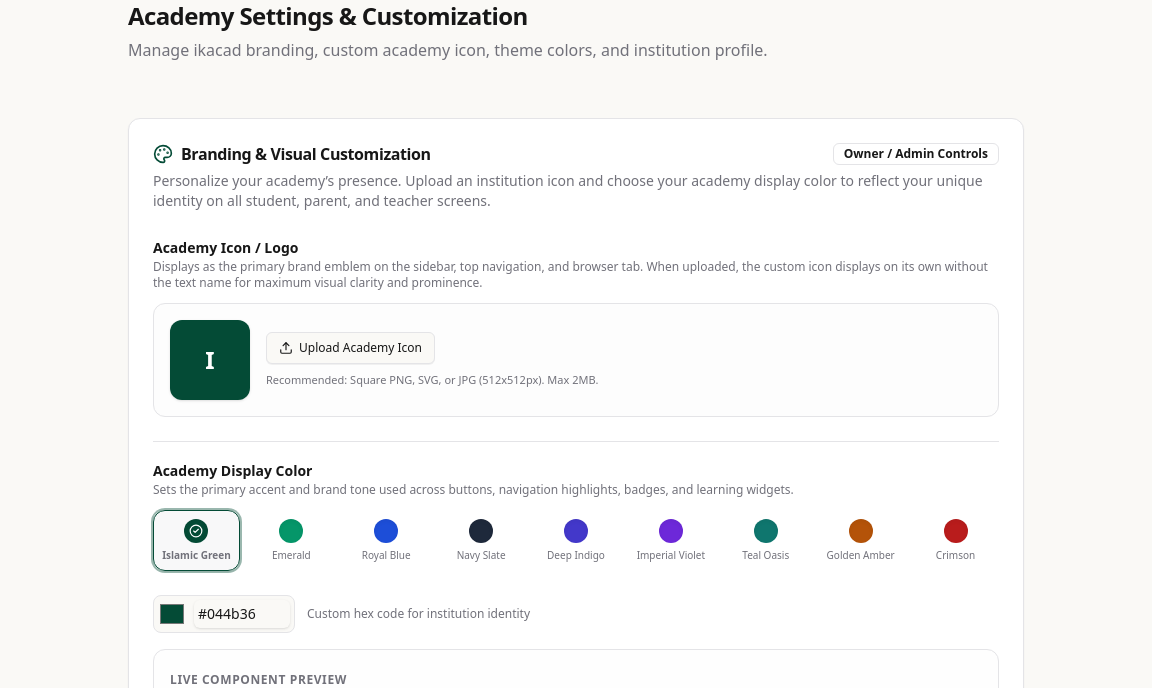
Test case: Academy Branding & Dynamic Tab Wording › SettingsPage Branding & Customization UI › allows changing display color and saving branding
This screenshot has width=1152, height=688.
Click the button titled "Royal Blue". click: [386, 540]
box: 343,510 -> 430,570
(page scrolled)
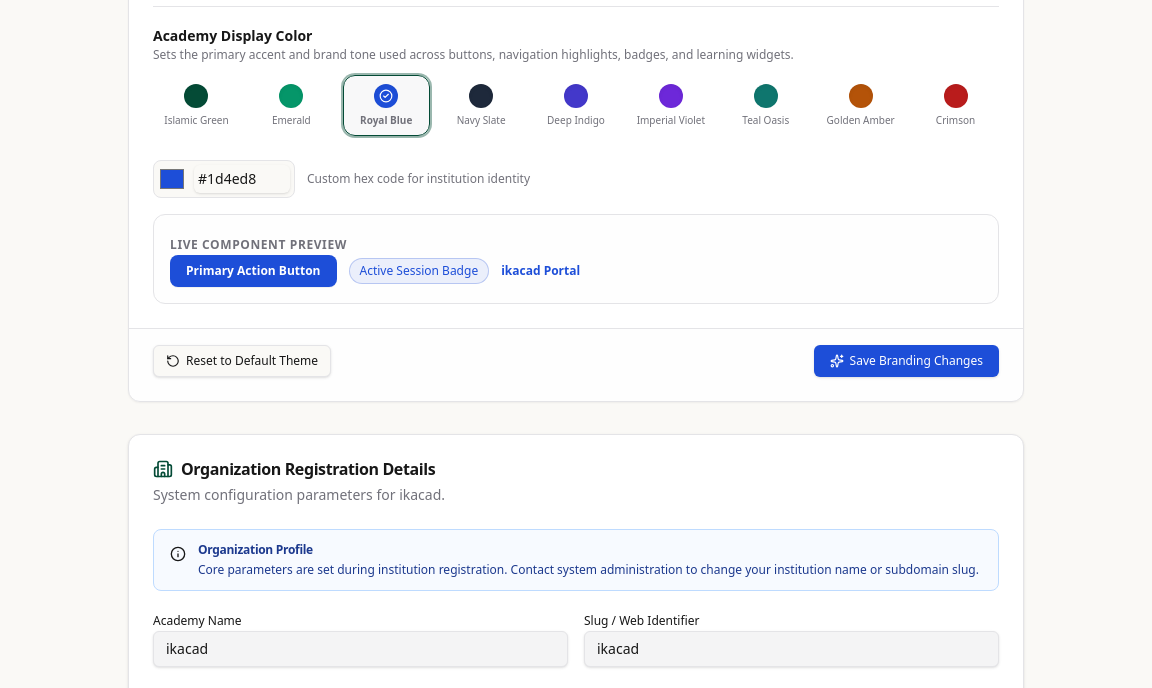
Click the button "Save Branding Changes". click: [906, 360]
box: 814,344 -> 999,376
(page scrolled)
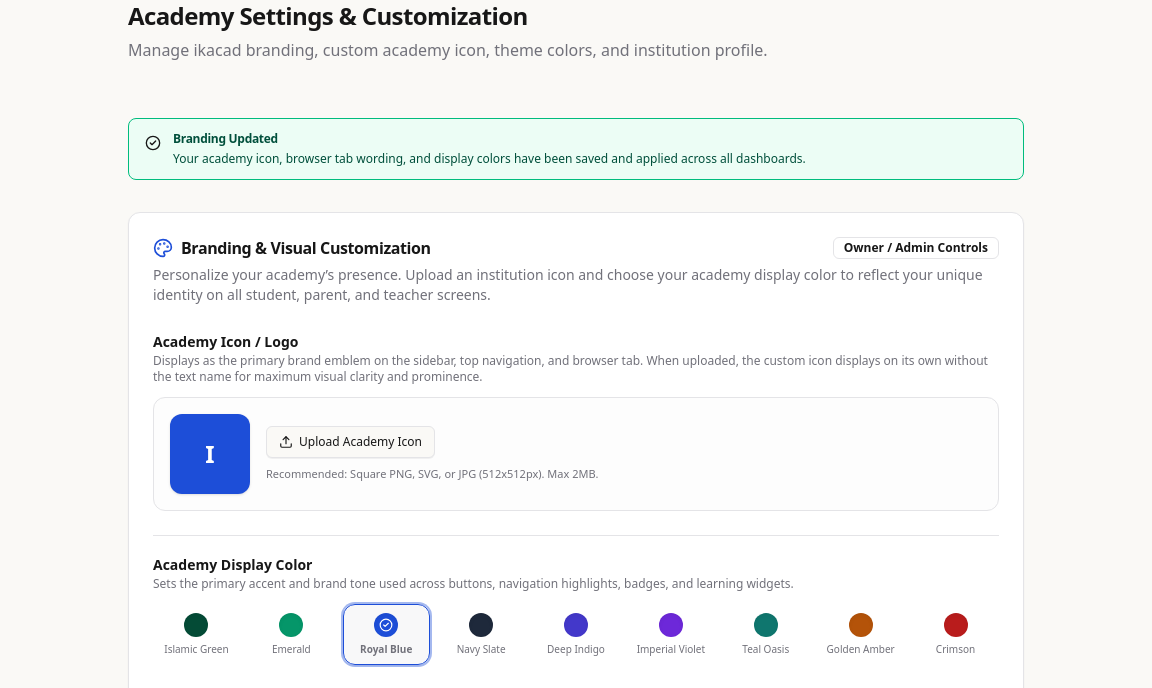
Expected: the heading "Branding Updated" is shown, 173,130 -> 278,147
